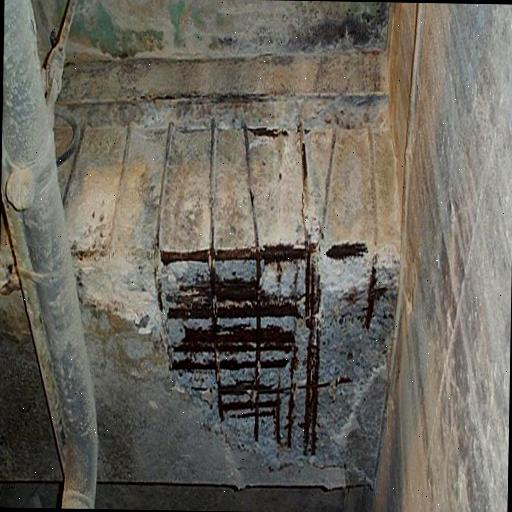spalling: (153, 245, 400, 478), (230, 104, 270, 237), (288, 110, 312, 226)
